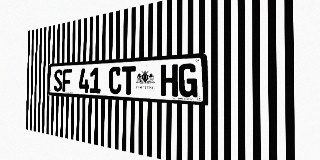1: (89, 67, 101, 93)
4: (79, 68, 89, 93)
C: (109, 66, 122, 94)
F: (62, 69, 72, 92)
G: (178, 63, 198, 98)
H: (161, 64, 178, 97)
S: (54, 69, 62, 92)
T: (122, 66, 136, 95)
